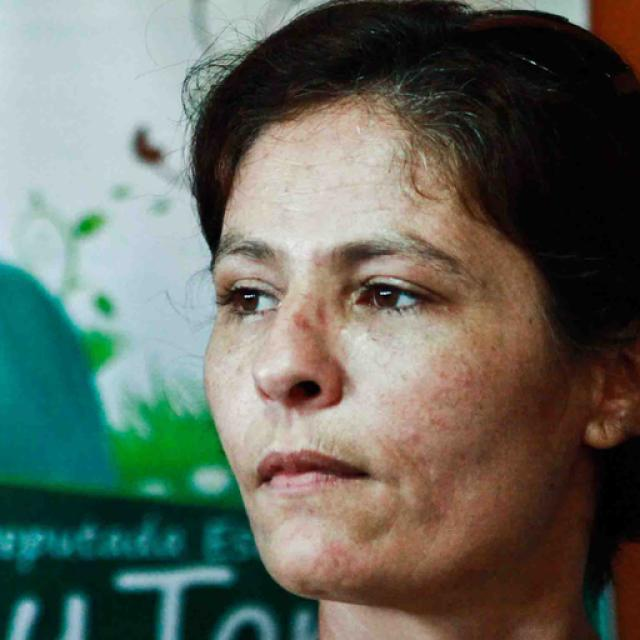neutral: (202, 79, 580, 592)
